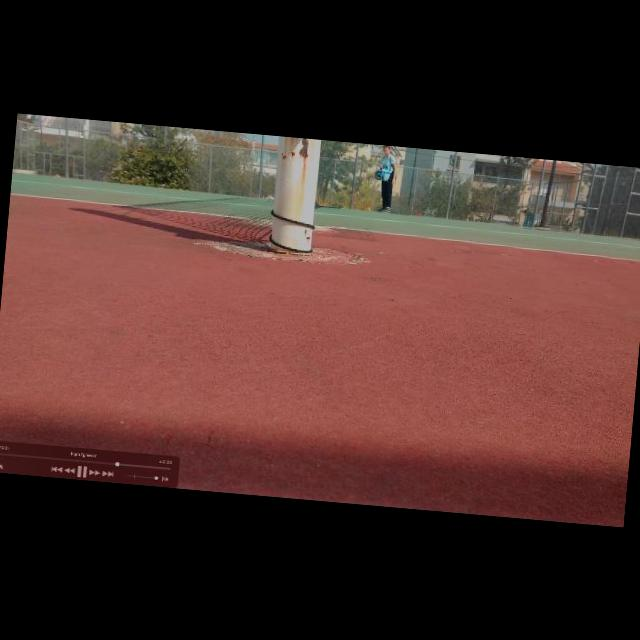Tennis Ball: (367, 208, 370, 211)
